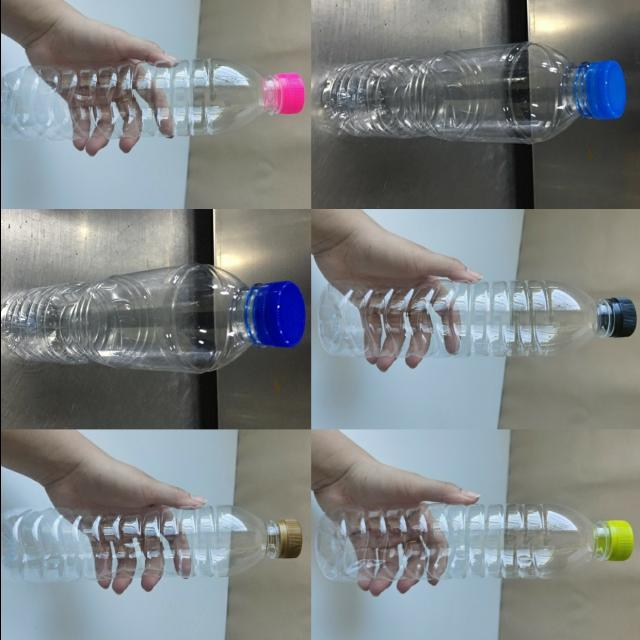plastik: (0, 264, 305, 373), (322, 42, 625, 144), (0, 58, 303, 140), (317, 280, 635, 358), (315, 504, 633, 581), (0, 505, 301, 583)
